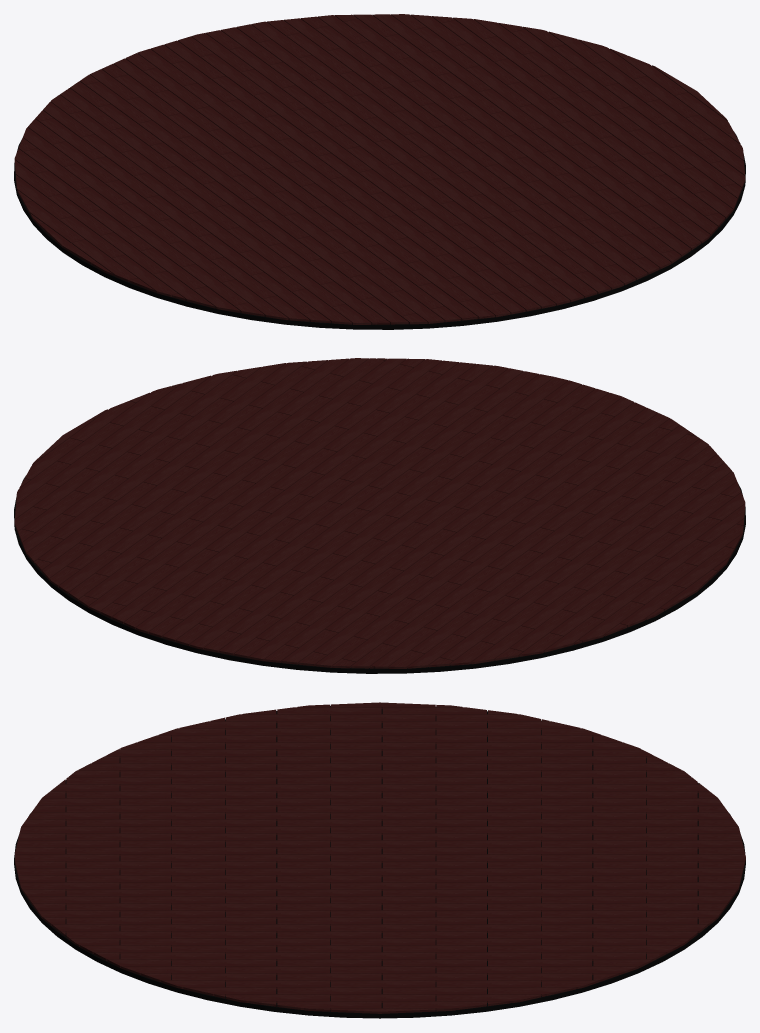
Rendered from Floor.fbx.
3 renders of one model, top to bottom at view 1: azimuth 30°, elevation 25°; view 2: azimuth 150°, elevation 25°; view 3: azimuth 270°, elevation 25°, orthographic.
Parts seen in each view (by area): view 1: Cube.008, Collizion; view 2: Cube.008, Collizion; view 3: Cube.008, Collizion.
Boxes of the visible parts, bbox=[...] form: Cube.008: bbox=[14, 14, 745, 324]; Collizion: bbox=[14, 132, 745, 329]; Cube.008: bbox=[14, 358, 745, 668]; Collizion: bbox=[14, 476, 745, 673]; Cube.008: bbox=[14, 702, 745, 1013]; Collizion: bbox=[14, 706, 745, 1018].
Bounding box in the file's own units: 1400 × 14.12 × 1400.
